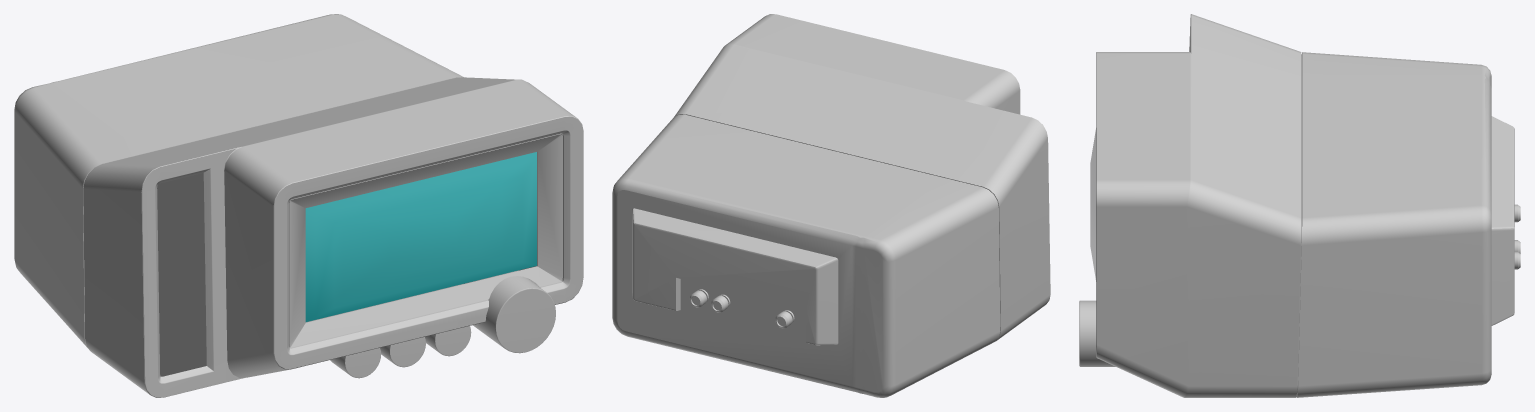
3 views of the same model, side by side, from view 1: azimuth 30°, elevation 25°; view 2: azimuth 150°, elevation 25°; view 3: azimuth 270°, elevation 25° (orthographic). The views are drawn at different scales.
Parts seen in each view (by area): view 1: Case, Screen_Interior, Screen_Cover, Sound_Board, Power, RGB_R, RGB_B, RGB_G; view 2: Case; view 3: Case, Power, Screen_Cover.
Boxes of the visible parts, x1,y1,x2,y2 form: Case: [14, 14, 583, 397]; Screen_Interior: [305, 152, 536, 321]; Screen_Cover: [306, 152, 536, 322]; Sound_Board: [157, 173, 206, 376]; Power: [473, 276, 555, 353]; RGB_R: [330, 348, 380, 378]; RGB_B: [425, 326, 471, 356]; RGB_G: [380, 337, 425, 367]; Case: [612, 14, 1050, 397]; Case: [1096, 14, 1520, 397]; Power: [1079, 300, 1115, 366]; Screen_Cover: [1090, 128, 1096, 281].
Size of the model in its own units: 87.43 by 48.61 by 89.83.
